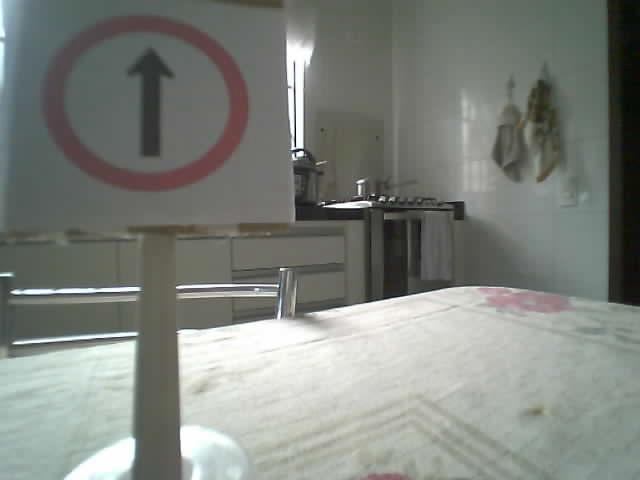R-26_frente: (41, 15, 247, 192)
